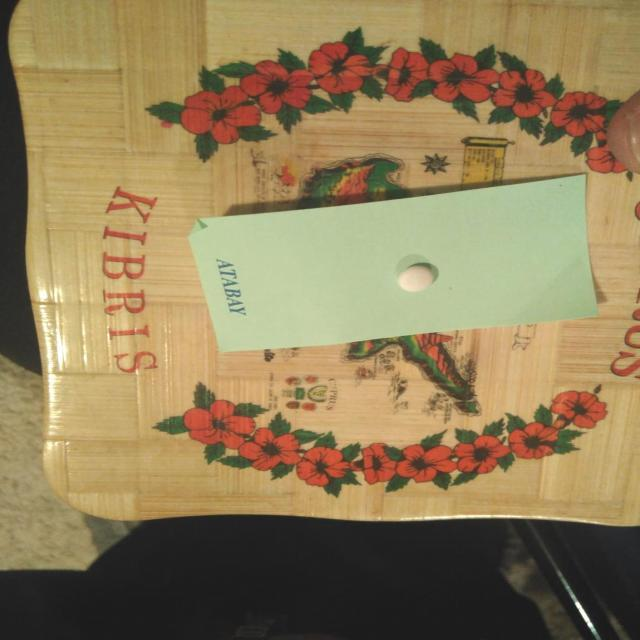pill: (392, 261, 440, 297)
